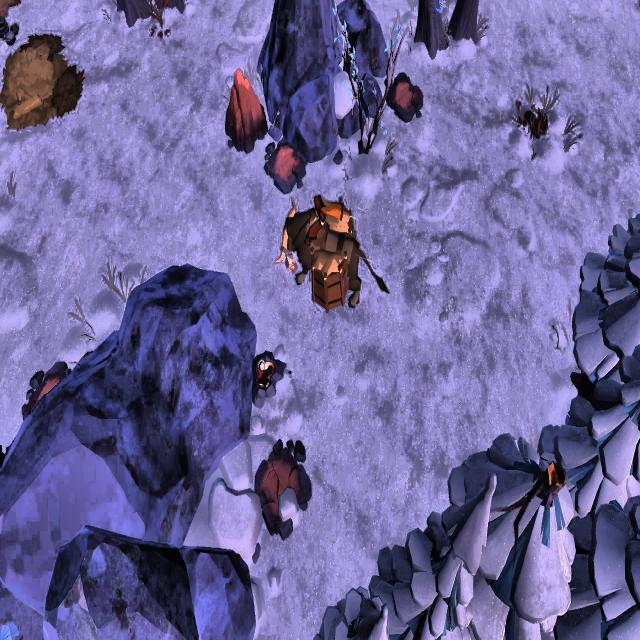rock_t5: (222, 68, 268, 159)
